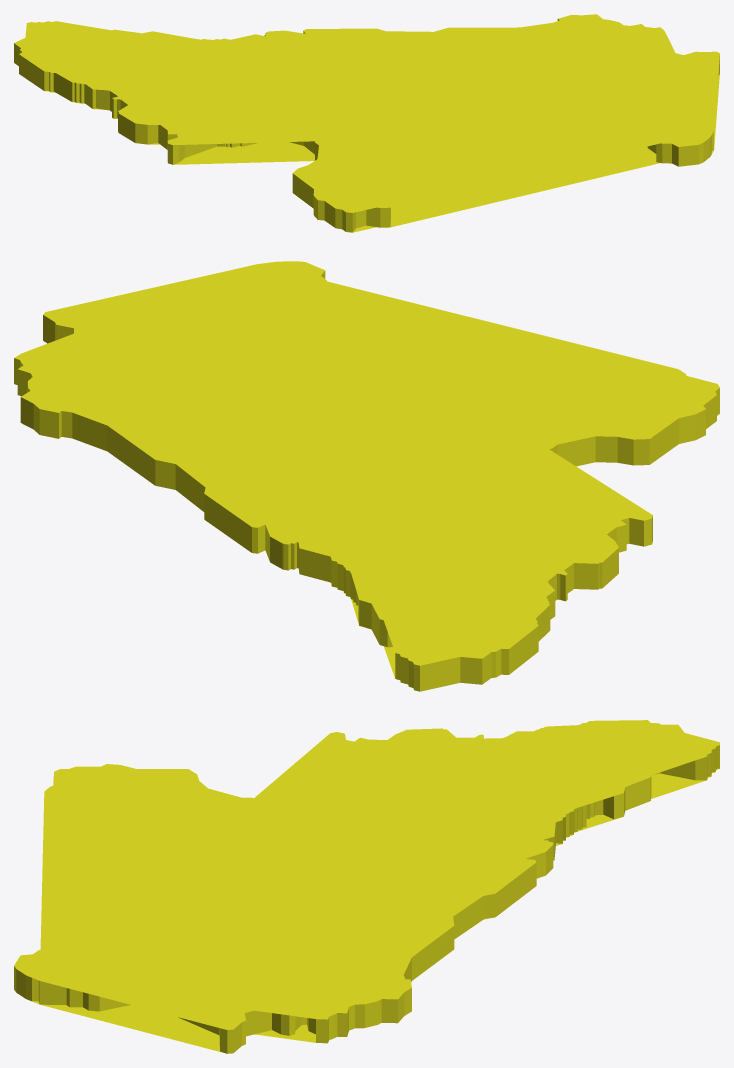
3 views of the same model, one above another, from view 1: azimuth 30°, elevation 25°; view 2: azimuth 150°, elevation 25°; view 3: azimuth 270°, elevation 25° (orthographic). The views are drawn at different scales.
Visible parts, largest first — view 1: Uttar Pradesh; view 2: Uttar Pradesh; view 3: Uttar Pradesh.
Boxes of the visible parts, box(x1,y1,x2,y2) form: Uttar Pradesh: box(14, 14, 719, 232); Uttar Pradesh: box(14, 261, 719, 691); Uttar Pradesh: box(14, 720, 719, 1053).
Bounding box in the file's own units: 107 × 3.84 × 103.
